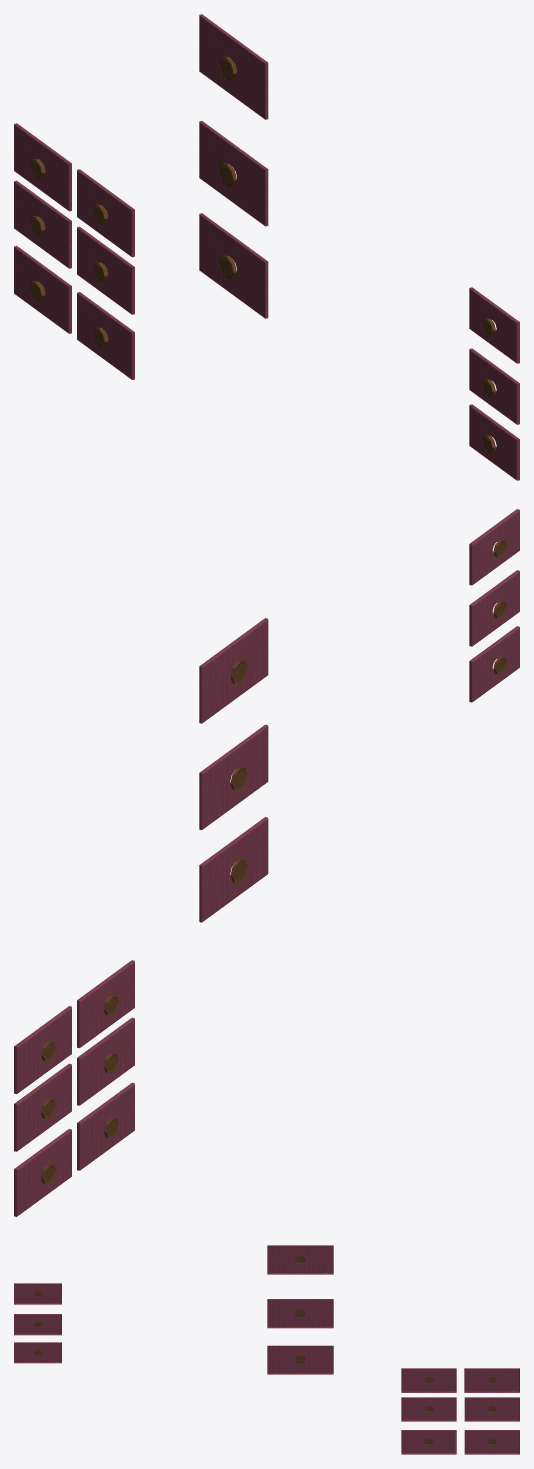
Rendered from cajon.obj.
3 views of the same model, one above another, from view 1: azimuth 30°, elevation 25°; view 2: azimuth 150°, elevation 25°; view 3: azimuth 270°, elevation 25° (orthographic). The views are drawn at different scales.
Parts seen in each view (by area): view 1: cajon:polySurface51 polySurface98, cajon:polySurface51 polySurface100, cajon:polySurface51 polySurface94, cajon:polySurface51 polySurface82, cajon:polySurface51 polySurface53, cajon:polySurface51 polySurface78, cajon:polySurface51 polySurface86, cajon:polySurface51 polySurface74, cajon:polySurface51 polySurface90, cajon:polySurface51 polySurface104, cajon:polySurface51 polySurface102, cajon:polySurface51 polySurface106; view 2: cajon:polySurface51 polySurface100, cajon:polySurface51 polySurface94, cajon:polySurface51 polySurface98, cajon:polySurface51 polySurface82, cajon:polySurface51 polySurface90, cajon:polySurface51 polySurface78, cajon:polySurface51 polySurface74, cajon:polySurface51 polySurface86, cajon:polySurface51 polySurface53, cajon:polySurface51 polySurface106, cajon:polySurface51 polySurface104, cajon:polySurface51 polySurface102; view 3: cajon:polySurface51 polySurface100, cajon:polySurface51 polySurface94, cajon:polySurface51 polySurface98, cajon:polySurface51 polySurface74, cajon:polySurface51 polySurface53, cajon:polySurface51 polySurface90, cajon:polySurface51 polySurface78, cajon:polySurface51 polySurface82, cajon:polySurface51 polySurface86, cajon:polySurface51 polySurface106, cajon:polySurface51 polySurface102, cajon:polySurface51 polySurface104.
Boxes of the visible parts, bbox=[...] form: cajon:polySurface51 polySurface98: bbox=[199, 121, 268, 226]; cajon:polySurface51 polySurface100: bbox=[199, 213, 268, 318]; cajon:polySurface51 polySurface94: bbox=[199, 14, 268, 119]; cajon:polySurface51 polySurface82: bbox=[14, 180, 71, 268]; cajon:polySurface51 polySurface53: bbox=[14, 123, 71, 211]; cajon:polySurface51 polySurface78: bbox=[77, 226, 134, 314]; cajon:polySurface51 polySurface86: bbox=[14, 246, 71, 333]; cajon:polySurface51 polySurface74: bbox=[77, 169, 134, 257]; cajon:polySurface51 polySurface90: bbox=[77, 292, 134, 379]; cajon:polySurface51 polySurface104: bbox=[469, 348, 519, 424]; cajon:polySurface51 polySurface102: bbox=[469, 287, 519, 363]; cajon:polySurface51 polySurface106: bbox=[469, 404, 519, 480]; cajon:polySurface51 polySurface100: bbox=[199, 817, 268, 922]; cajon:polySurface51 polySurface94: bbox=[199, 618, 268, 723]; cajon:polySurface51 polySurface98: bbox=[199, 724, 268, 830]; cajon:polySurface51 polySurface82: bbox=[14, 1063, 71, 1151]; cajon:polySurface51 polySurface90: bbox=[77, 1082, 134, 1170]; cajon:polySurface51 polySurface78: bbox=[77, 1017, 134, 1105]; cajon:polySurface51 polySurface74: bbox=[77, 960, 134, 1048]; cajon:polySurface51 polySurface86: bbox=[14, 1129, 71, 1216]; cajon:polySurface51 polySurface53: bbox=[14, 1006, 71, 1093]; cajon:polySurface51 polySurface106: bbox=[469, 626, 519, 702]; cajon:polySurface51 polySurface104: bbox=[469, 570, 519, 646]; cajon:polySurface51 polySurface102: bbox=[469, 509, 519, 585]; cajon:polySurface51 polySurface100: bbox=[267, 1345, 333, 1374]; cajon:polySurface51 polySurface94: bbox=[267, 1245, 333, 1274]; cajon:polySurface51 polySurface98: bbox=[267, 1299, 333, 1328]; cajon:polySurface51 polySurface74: bbox=[401, 1368, 456, 1392]; cajon:polySurface51 polySurface53: bbox=[464, 1368, 519, 1392]; cajon:polySurface51 polySurface90: bbox=[401, 1430, 456, 1454]; cajon:polySurface51 polySurface78: bbox=[401, 1397, 456, 1421]; cajon:polySurface51 polySurface82: bbox=[464, 1397, 519, 1421]; cajon:polySurface51 polySurface86: bbox=[464, 1430, 519, 1454]; cajon:polySurface51 polySurface106: bbox=[14, 1342, 61, 1363]; cajon:polySurface51 polySurface102: bbox=[14, 1283, 61, 1304]; cajon:polySurface51 polySurface104: bbox=[14, 1314, 61, 1335].
Bounding box in the file's own units: 0.0548 × 2.51 × 5.52.
1 material, 1 textured.
